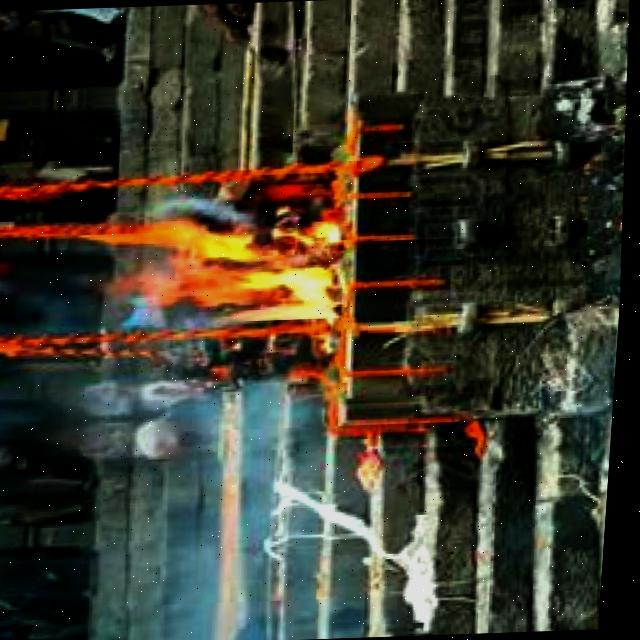Fire: (105, 210, 353, 336)
